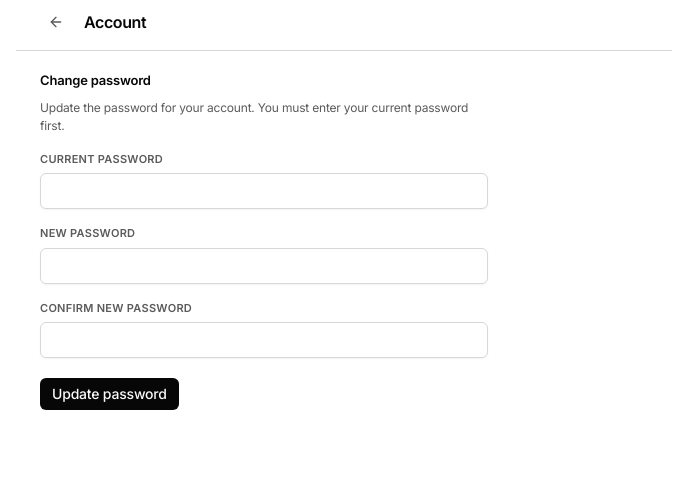
Test: AccountSettings › requires confirm password to match the new password
The image size is (689, 481).
Type "oldsecret" into the password field labelled "Current password" at (264, 191), box [40,173,488,209]
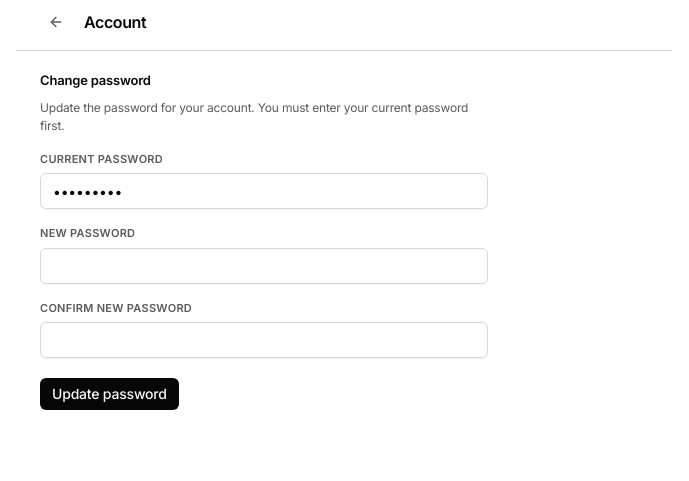
Type "newsecret" into the password field labelled "New password" at (264, 266), box [40,248,488,284]
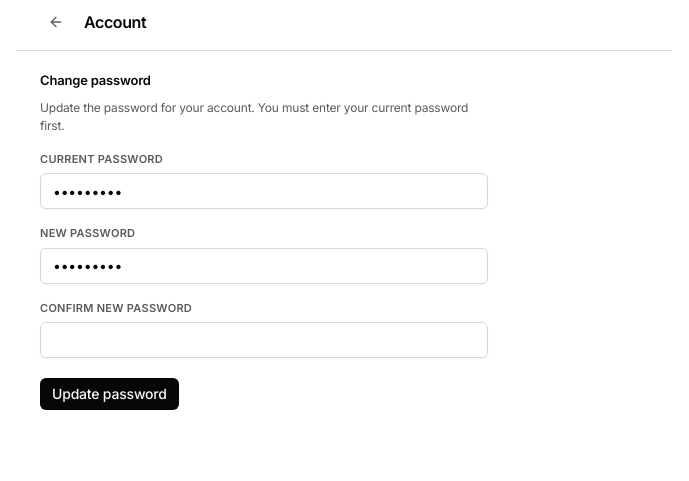
Type "different" into the password field labelled "Confirm new password" at (264, 340), box [40,322,488,358]
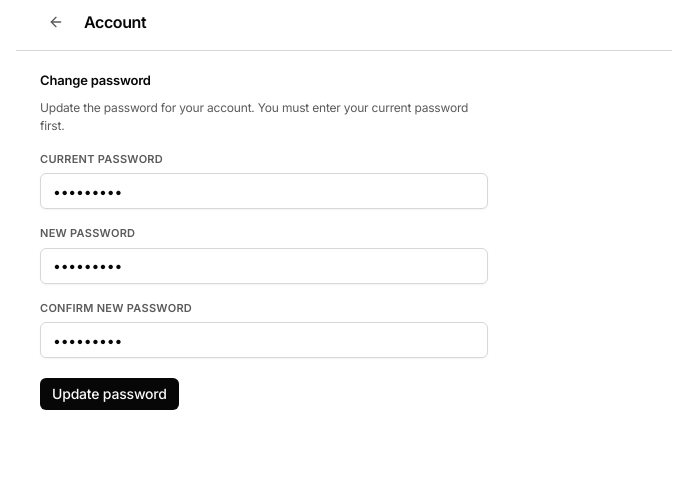
Submit the form, box [40,71,488,410]
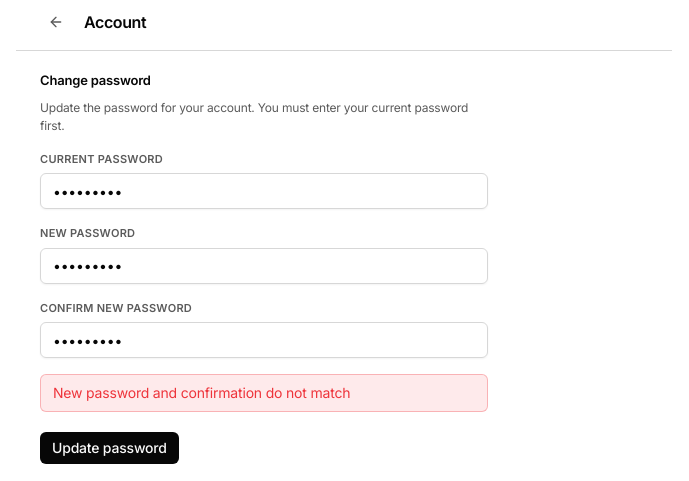
Check: the text "New password and confirmation do not match" is shown, box [40,374,488,412]
